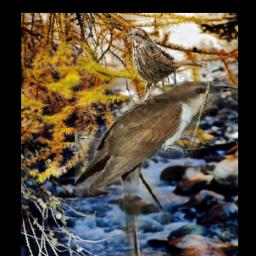Cuckoo: (75, 82, 237, 256)
Sparrow: (126, 27, 208, 105)
